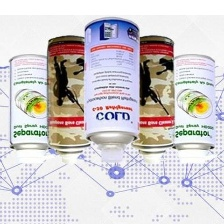aerosol_cans: (80, 15, 143, 164), (43, 34, 97, 166), (127, 32, 178, 167), (165, 52, 219, 166), (7, 52, 55, 167)
